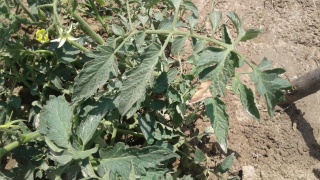tomato diseased leaf: (187, 51, 235, 105)
tomato flower: (33, 21, 84, 52), (50, 21, 84, 52), (31, 21, 52, 49)
tomato plant: (4, 61, 179, 176)
